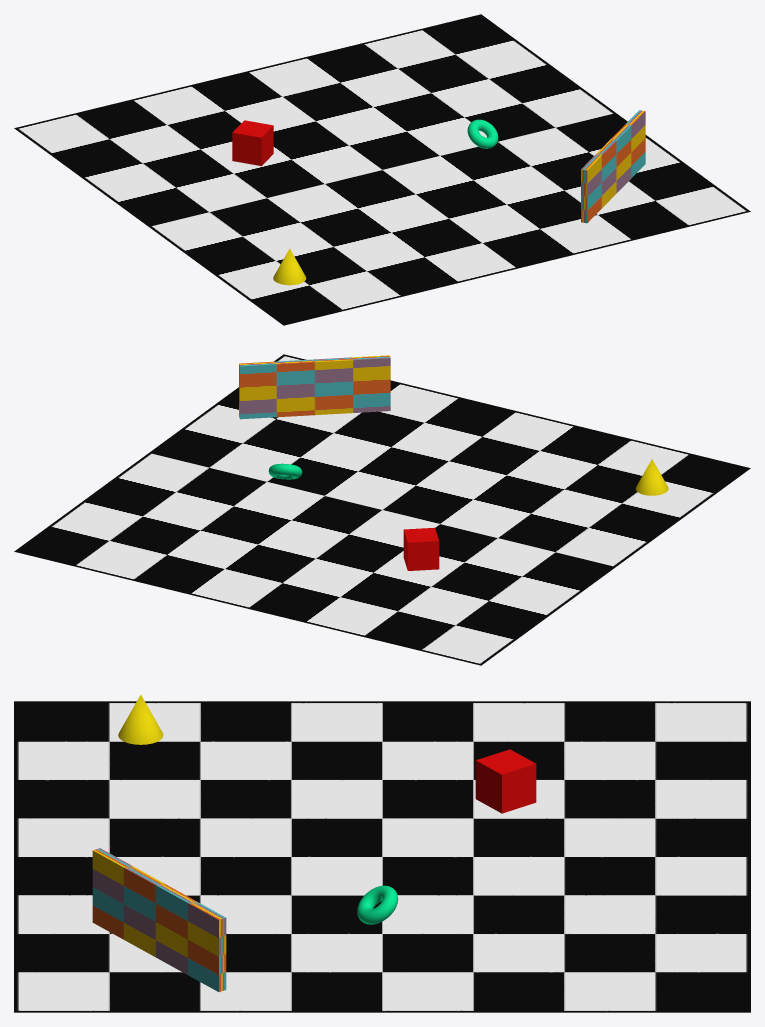
3 views of the same model, one above another, from view 1: azimuth 30°, elevation 25°; view 2: azimuth 150°, elevation 25°; view 3: azimuth 270°, elevation 25° (orthographic). The views are drawn at different scales.
Parts seen in each view (by area): view 1: pPlane1, pCube2, pCube1, pCone1, pTorus1; view 2: pPlane1, pCube2, pCube1, pCone1; view 3: pPlane1, pCube2, pCube1, pCone1, pTorus1.
Part boxes in pixels (left/top/right/bottom): pPlane1: left=14, top=14, right=750, bottom=325; pCube2: left=581, top=110, right=645, bottom=223; pCube1: left=232, top=120, right=273, bottom=165; pCone1: left=273, top=248, right=306, bottom=285; pTorus1: left=467, top=119, right=498, bottom=148; pPlane1: left=14, top=354, right=750, bottom=665; pCube2: left=239, top=355, right=390, bottom=419; pCube1: left=403, top=527, right=439, bottom=570; pCone1: left=635, top=459, right=668, bottom=495; pPlane1: left=14, top=701, right=750, bottom=1012; pCube2: left=92, top=848, right=226, bottom=991; pCube1: left=475, top=749, right=536, bottom=813; pCone1: left=118, top=694, right=163, bottom=744; pTorus1: left=357, top=885, right=398, bottom=924.
Bounding box in the file's own units: 615 × 67.06 × 615.
Materials: 5 (2 with a texture image).
